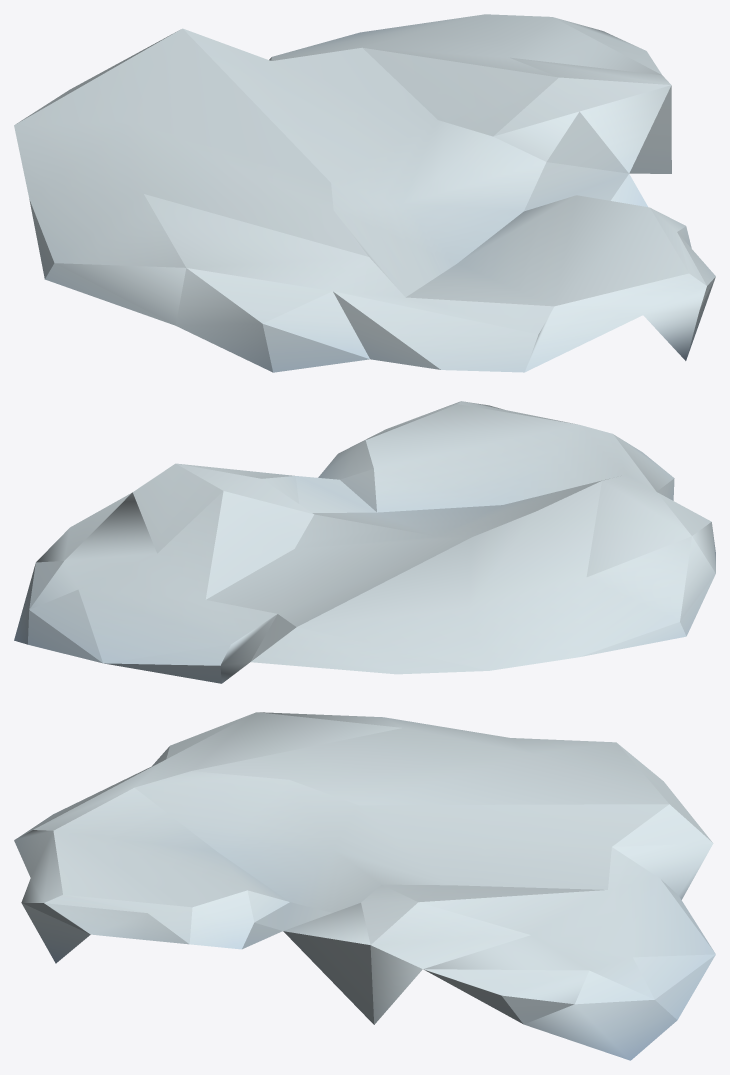
File: Terrain_Stage2_Decoration_3.fbx
The picture shows the model from 3 angles, top to bottom: view 1: azimuth 30°, elevation 25°; view 2: azimuth 150°, elevation 25°; view 3: azimuth 270°, elevation 25°; orthographic projection. The views are drawn at different scales.
Parts seen in each view (by area): view 1: terrain_bridge_snow_401_LOD1 #1406027; view 2: terrain_bridge_snow_401_LOD1 #1406027; view 3: terrain_bridge_snow_401_LOD1 #1406027.
Boxes of the visible parts, x1=… form: terrain_bridge_snow_401_LOD1 #1406027: x1=14, y1=14, x2=715, y2=372; terrain_bridge_snow_401_LOD1 #1406027: x1=14, y1=401, x2=715, y2=683; terrain_bridge_snow_401_LOD1 #1406027: x1=14, y1=712, x2=715, y2=1060.
Size of the model in its own units: 857 by 147 by 897.
Materials: 1 (1 with a texture image).
